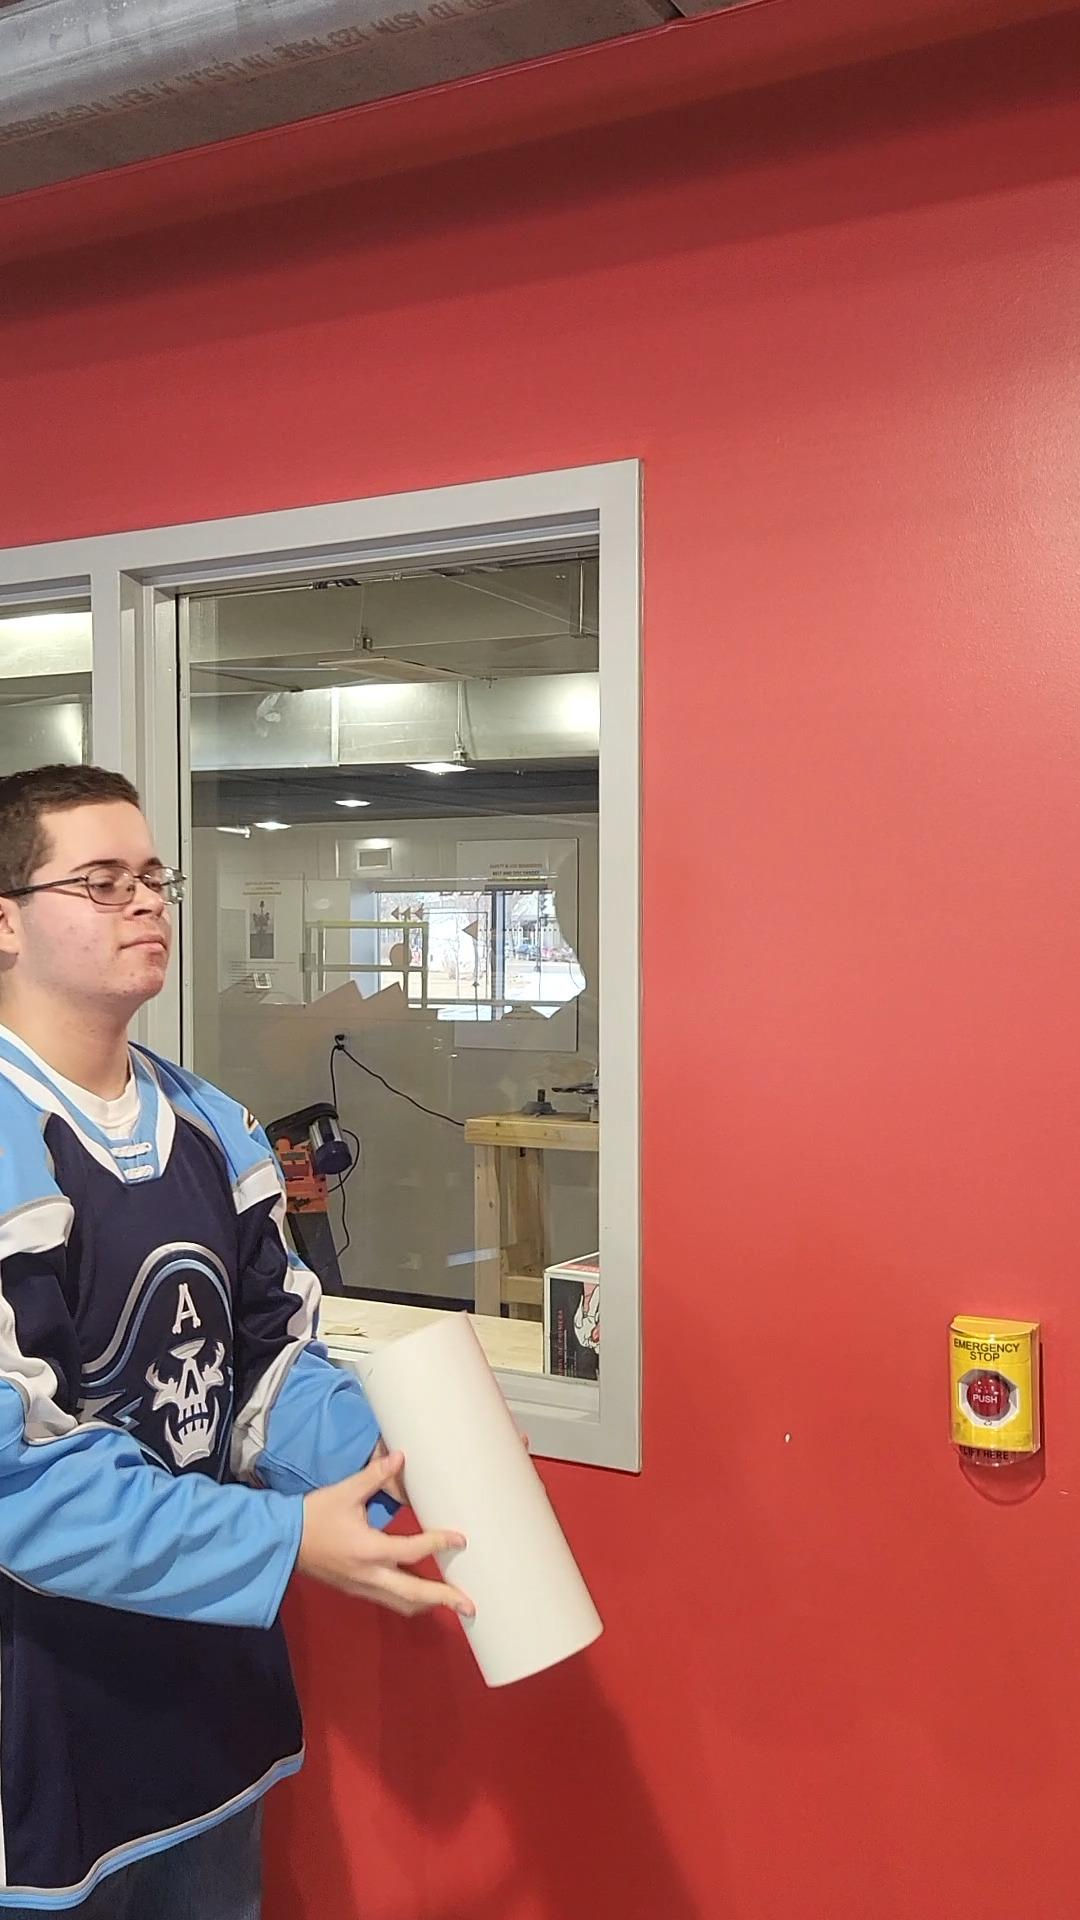coral: (356, 1315, 617, 1704)
